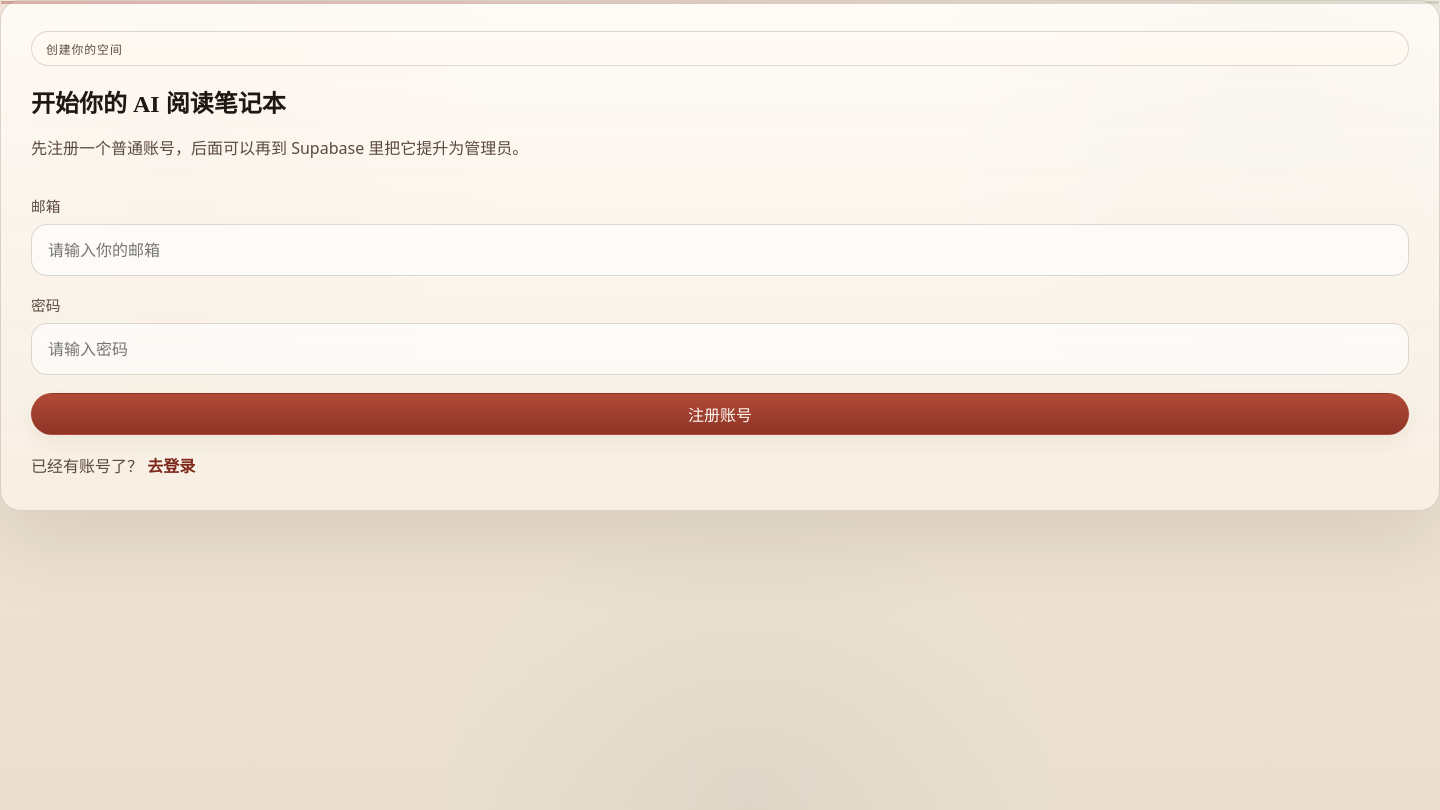
Scenario: AuthForm › shows signup success feedback when email confirmation is required
Type "user@example.com" into the field labelled "邮箱" at (720, 250), box [31, 224, 1409, 276]
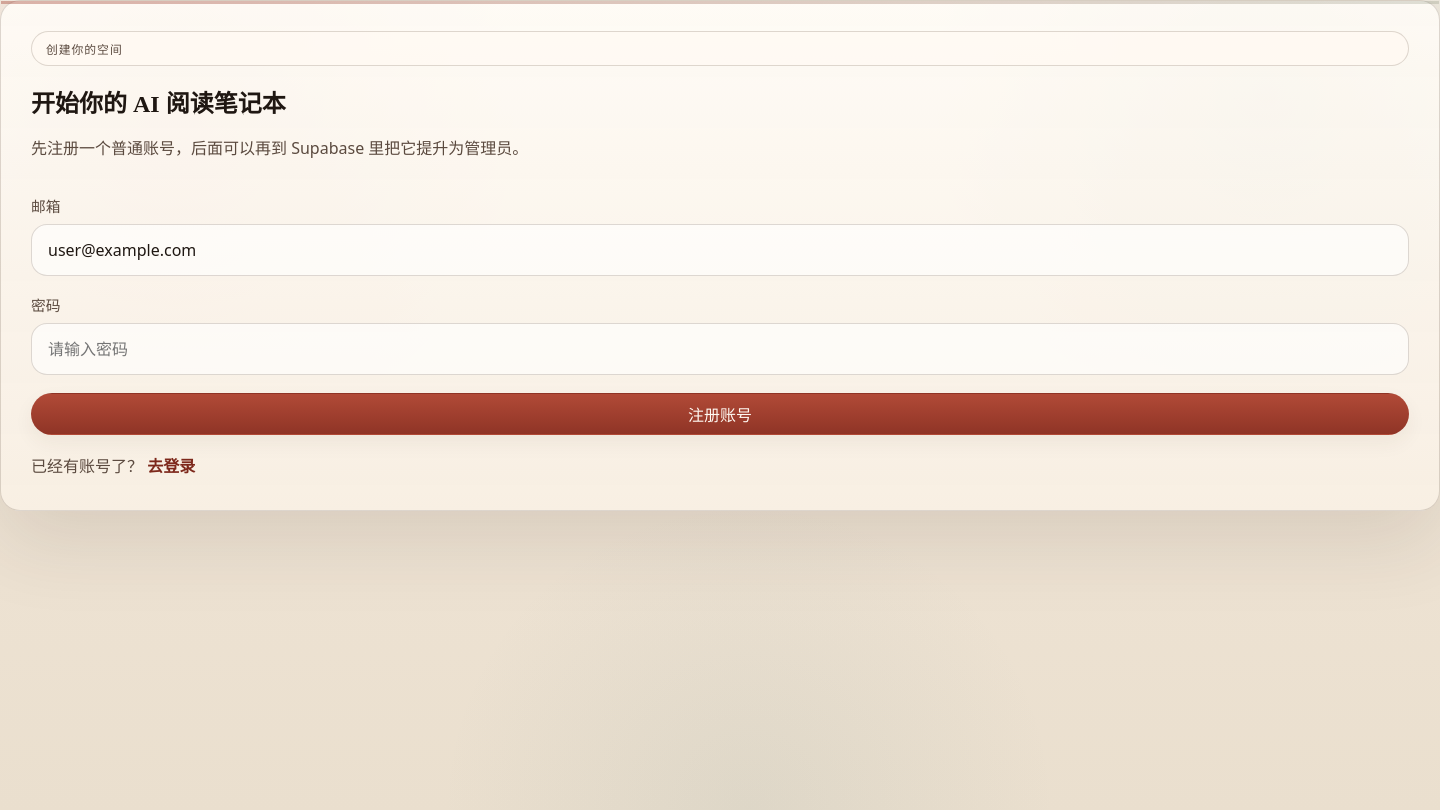
Type "password123" into the password field labelled "密码" at (720, 349), box [31, 323, 1409, 375]
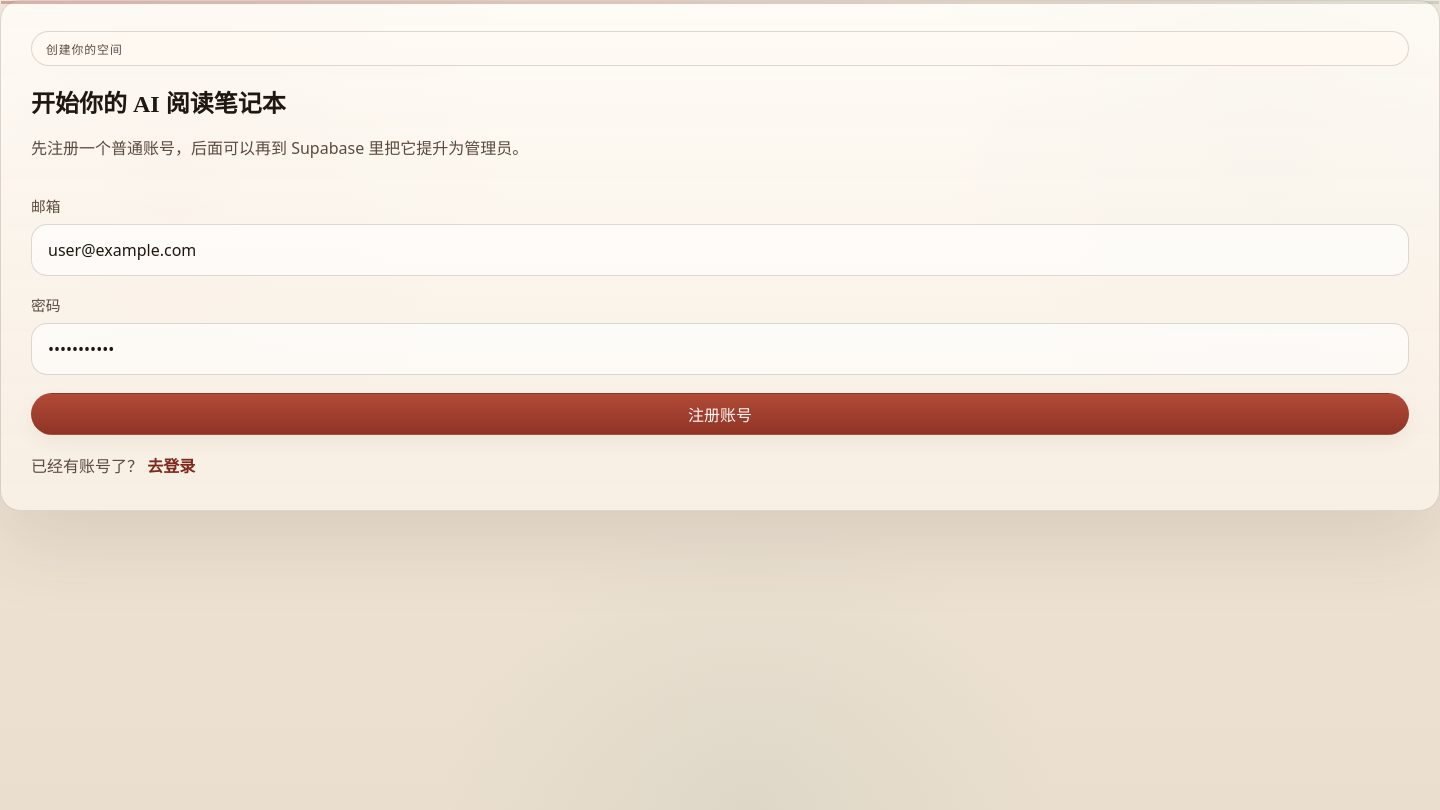
Click the button "注册账号" at (720, 414), box [31, 393, 1409, 435]
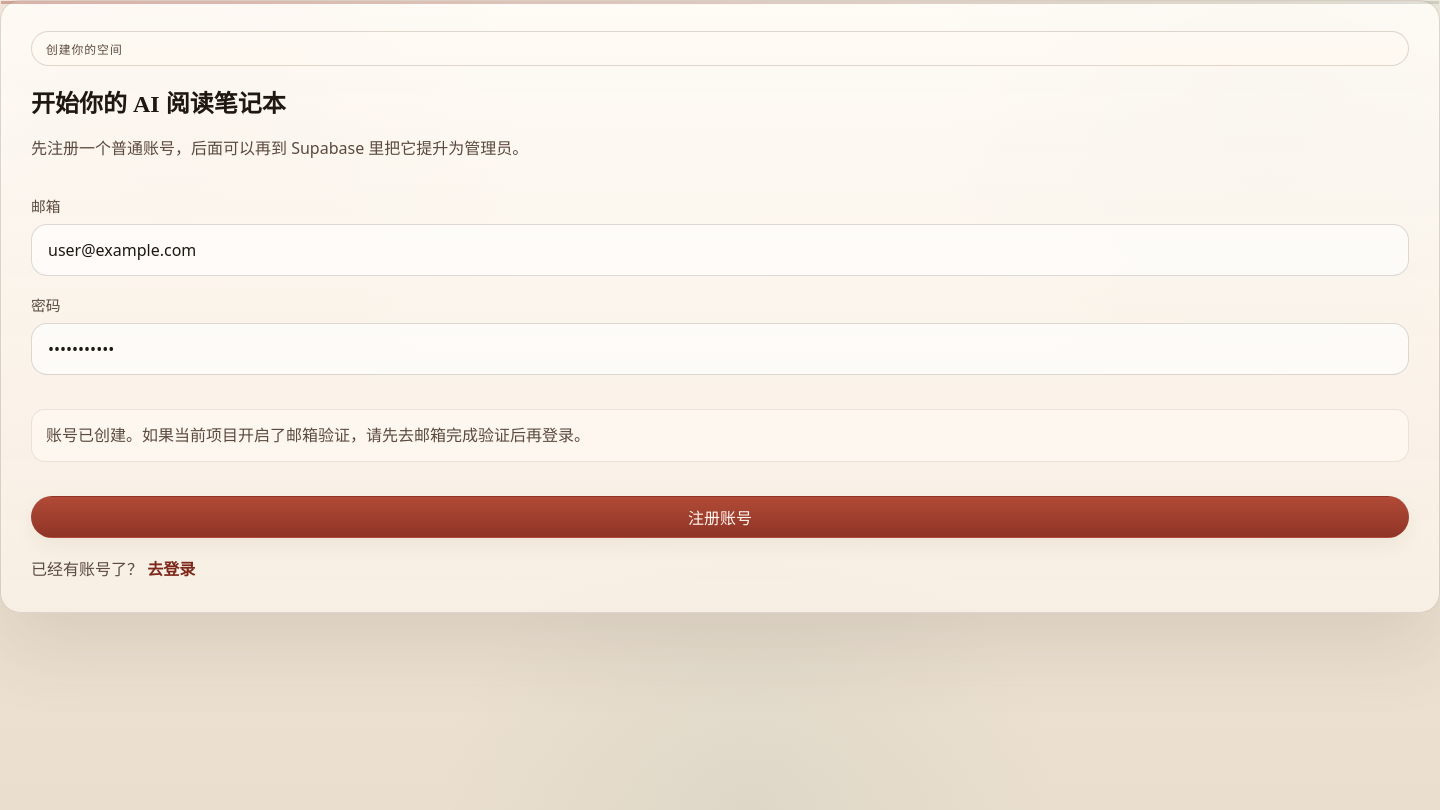
Now the text "账号已创建。如果当前项目开启了邮箱验证，请先去邮箱完成验证后再登录。" is shown, box [31, 409, 1409, 462]
